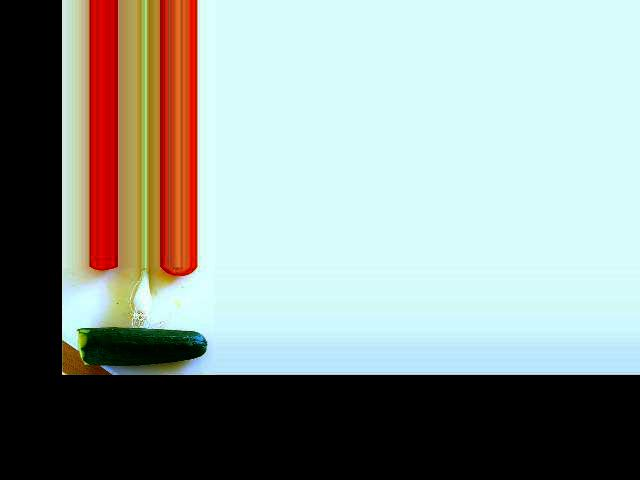cucumber: (77, 328, 208, 366)
